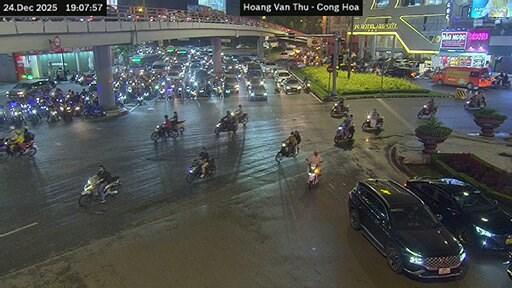motorbike: (0, 138, 37, 157), (77, 175, 98, 206), (150, 122, 178, 139), (275, 143, 297, 162), (333, 124, 354, 143), (361, 113, 383, 131), (307, 158, 319, 189), (186, 158, 201, 181), (82, 103, 105, 117), (105, 176, 120, 197), (214, 121, 236, 134), (26, 108, 41, 125), (502, 251, 511, 279), (464, 97, 486, 108), (60, 103, 73, 121), (490, 77, 511, 88), (231, 112, 248, 125), (330, 103, 346, 116), (416, 106, 434, 117), (204, 158, 214, 175), (47, 107, 58, 121), (301, 81, 310, 93), (176, 120, 184, 133), (135, 94, 144, 103)
